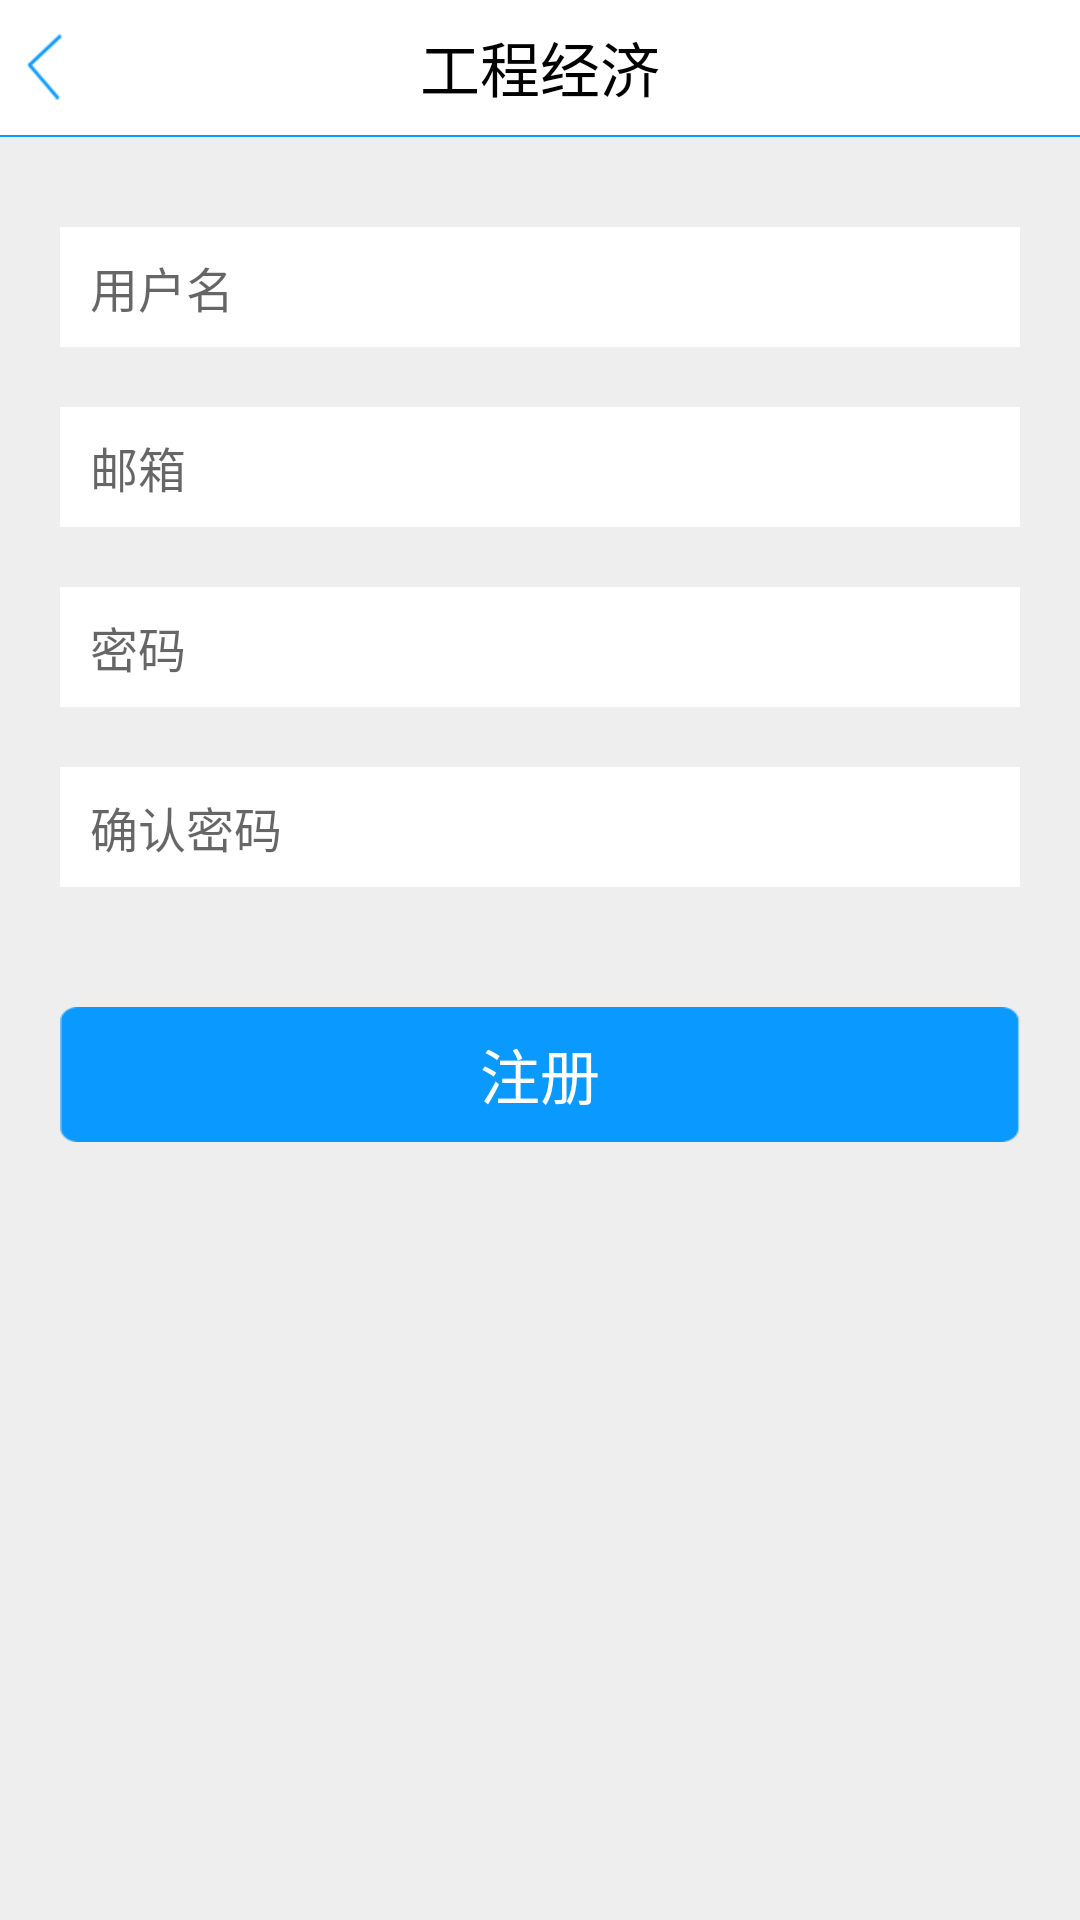

Point at icon controls on the screen. Image size 1080x1920, points as [x,y].
back: [44,67]
